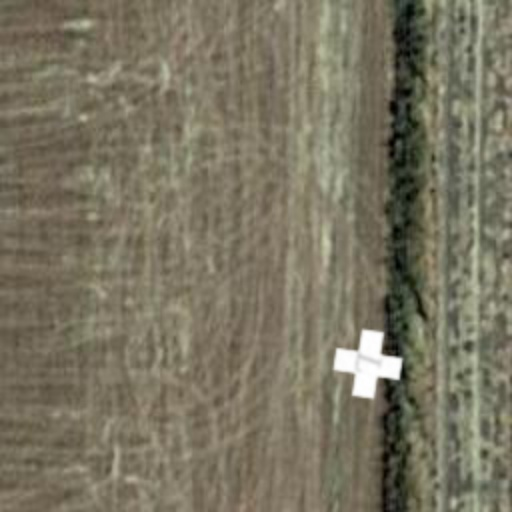cross: (328, 324, 408, 404)
